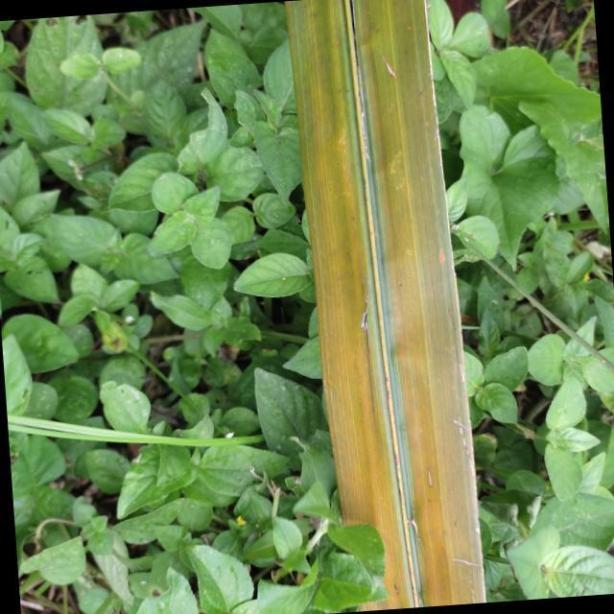Megnesium: (285, 0, 486, 614)
